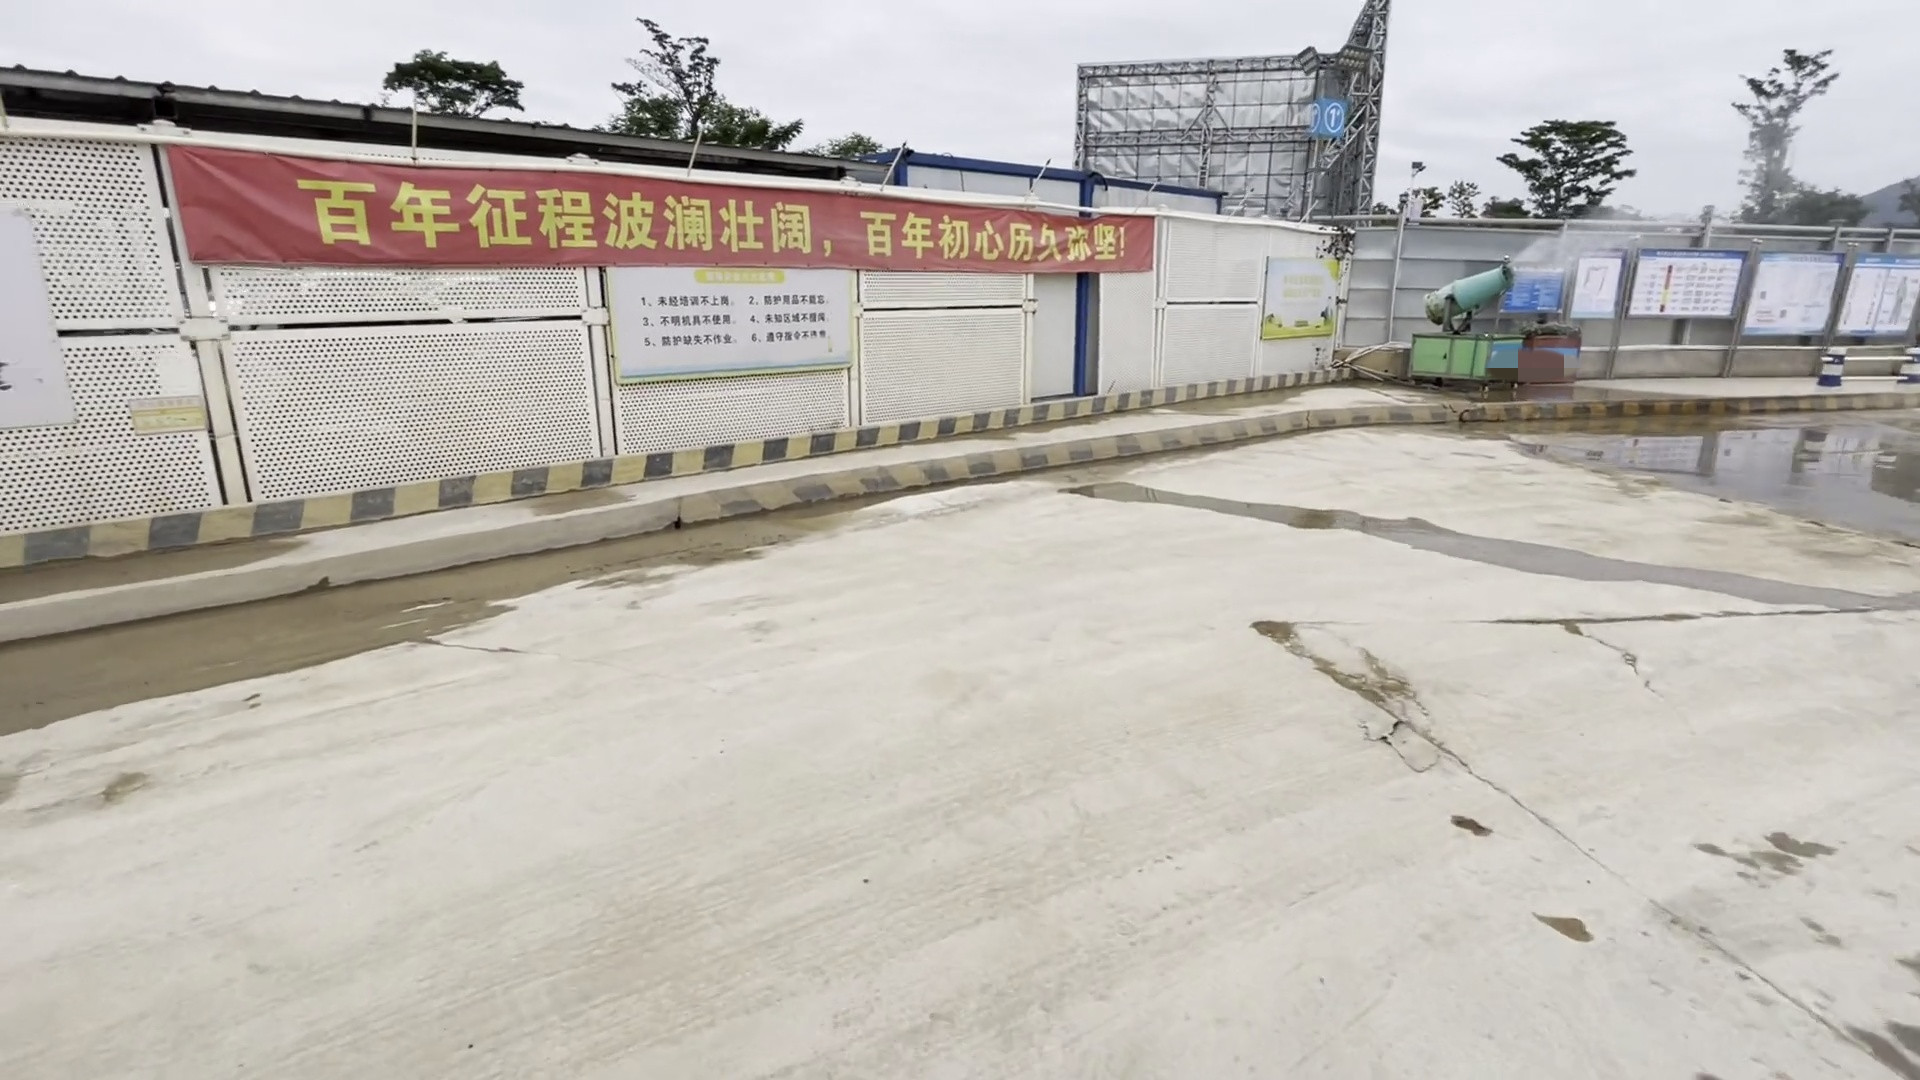slogan: (193, 145, 1149, 276), (604, 262, 848, 365)
